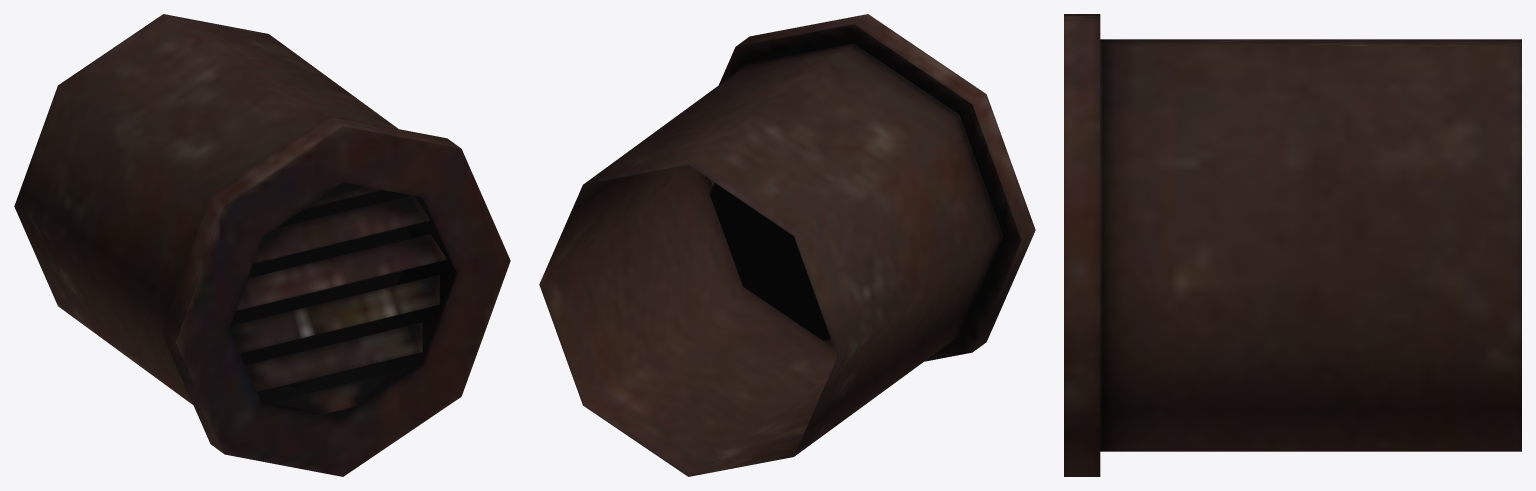
The model's file is RustyThick_SmallVent.FBX.
3 views of the same model, side by side, from view 1: azimuth 30°, elevation 25°; view 2: azimuth 150°, elevation 25°; view 3: azimuth 270°, elevation 25° (orthographic). The views are drawn at different scales.
Visible parts, largest first — view 1: RustyThick_SmallVent; view 2: RustyThick_SmallVent; view 3: RustyThick_SmallVent.
Part boxes in pixels (left/top/right/bottom): RustyThick_SmallVent: left=14, top=14, right=510, bottom=476; RustyThick_SmallVent: left=539, top=14, right=1035, bottom=476; RustyThick_SmallVent: left=1064, top=14, right=1521, bottom=476.
Bounding box in the file's own units: 41.11 × 41.11 × 38.19.
